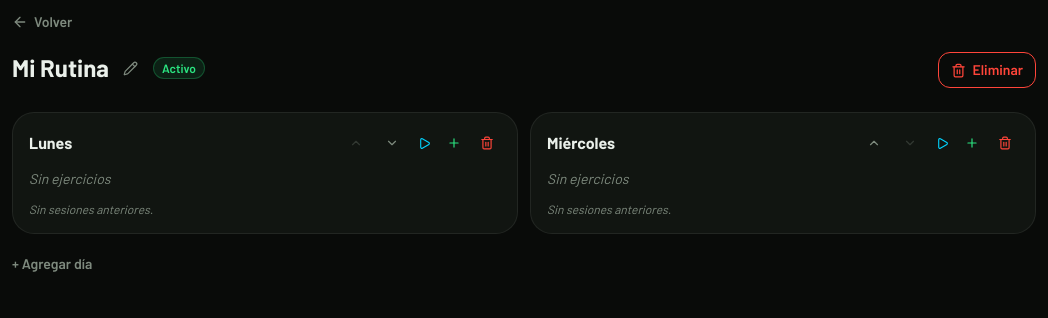
Test case: add training day (day chip picker) › shows API error when adding a day fails, picker stays open
Expected: the heading "Mi Rutina" is shown, [12,52,109,84]
Click the button "+ Agregar día" at (52, 264), box [12,250,92,278]
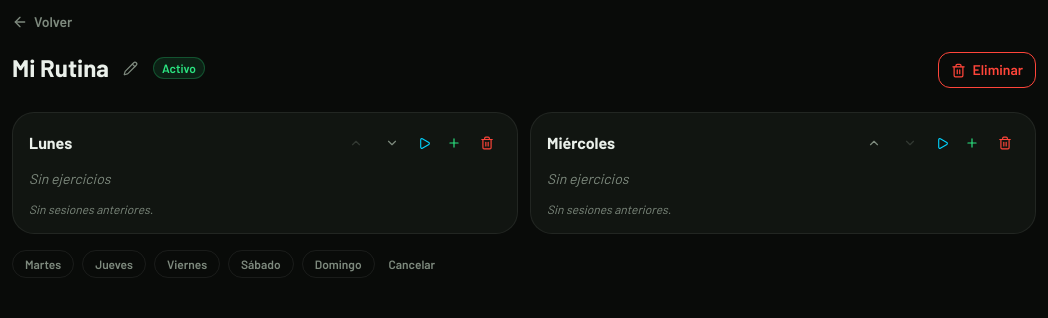
Click the button "Viernes" at (187, 264), box [154,250,220,278]
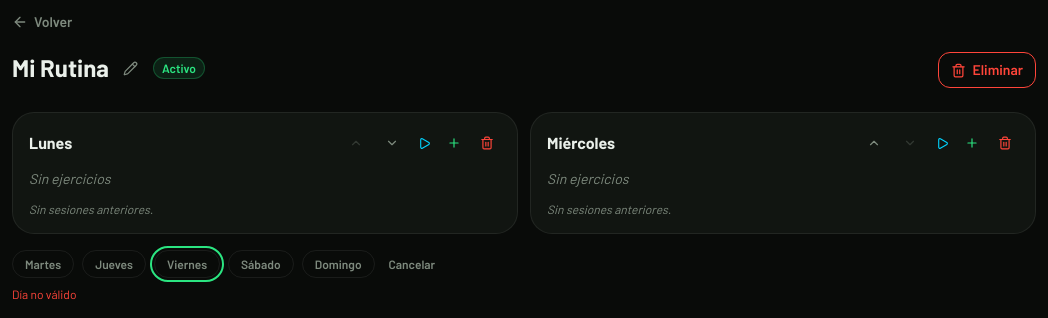
Expected: the button "Viernes" is shown, [154,250,220,278]
Expected: the text "Día no válido" is shown, [12,287,76,301]
